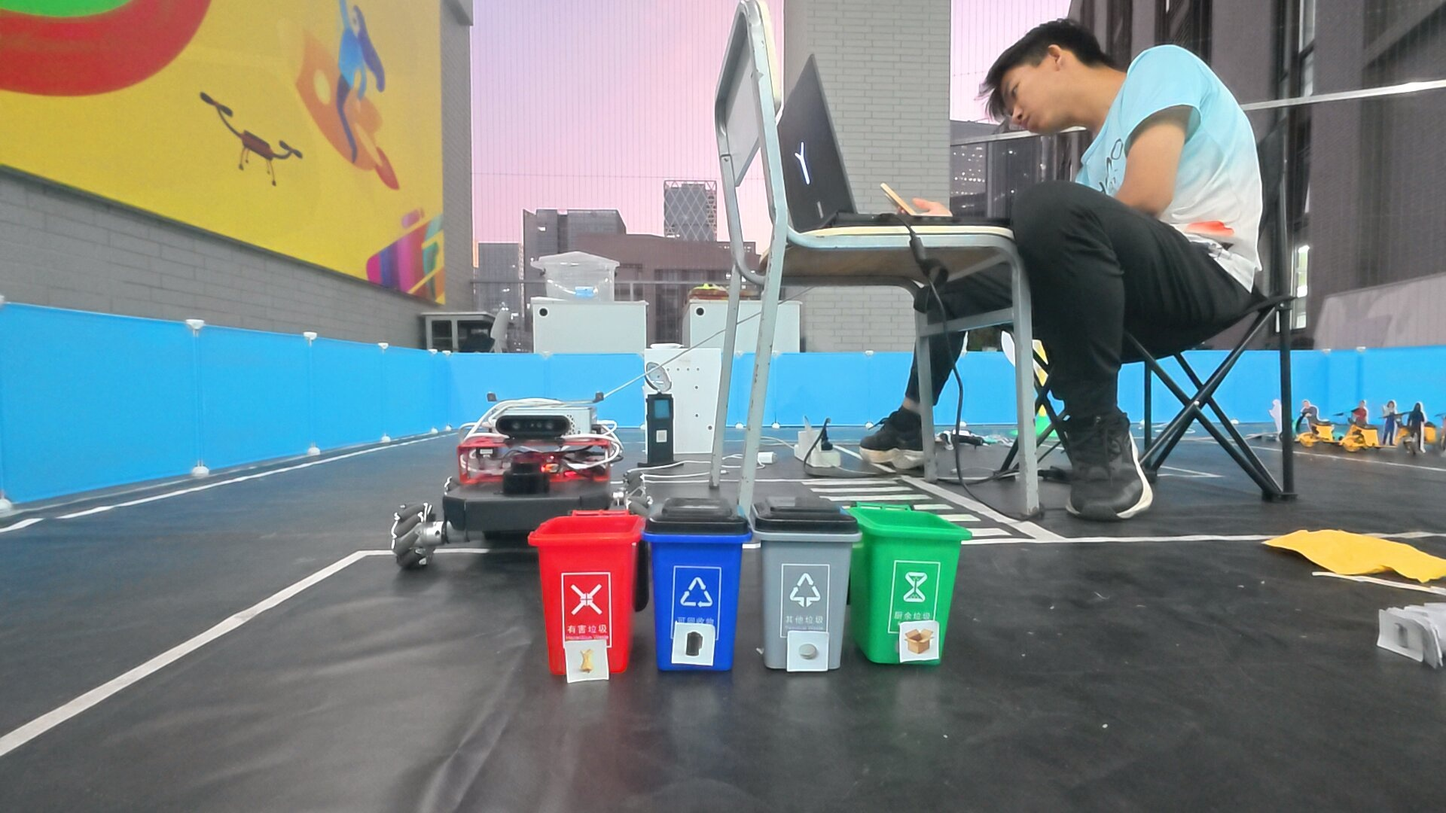food_trash: (569, 640, 608, 678)
hazardous_trash: (788, 631, 830, 671), (676, 624, 712, 663)
recyclable_trash: (899, 624, 939, 658)
